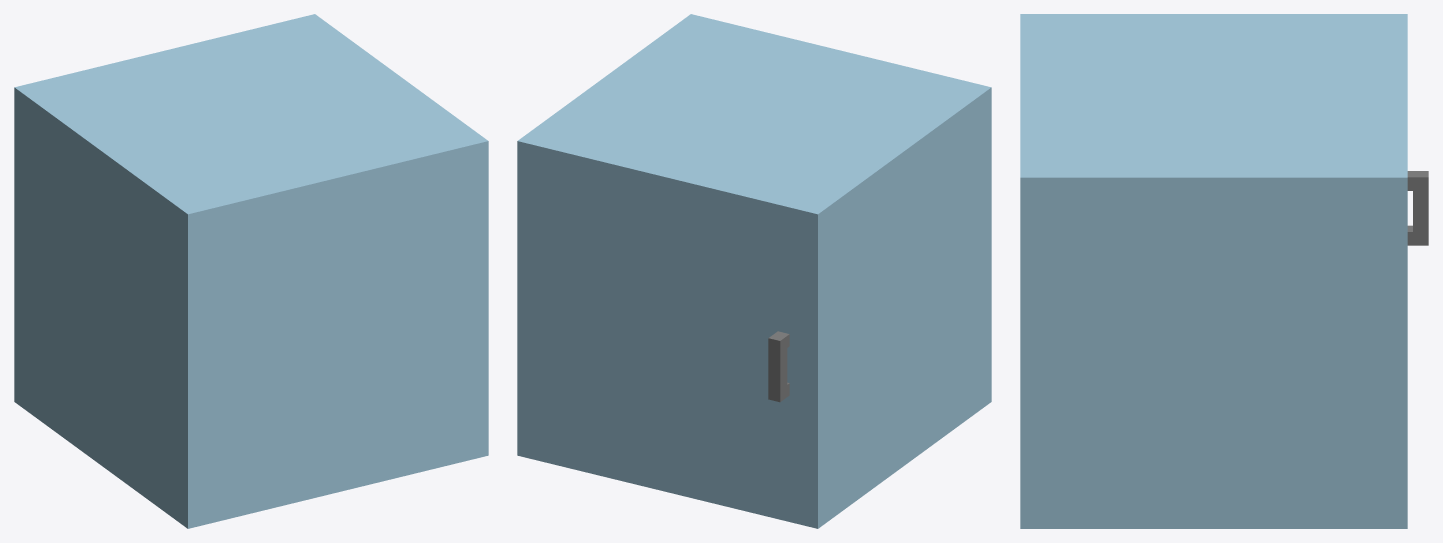
File: Cabinet.fbx
3 renders of one model, left to right at view 1: azimuth 30°, elevation 25°; view 2: azimuth 150°, elevation 25°; view 3: azimuth 270°, elevation 25°, orthographic. The views are drawn at different scales.
Parts seen in each view (by area): view 1: Cube; view 2: Cube, Cube.001; view 3: Cube, Cube.001.
Part boxes in pixels (x1,y1,x2,y2): Cube: (14,14,488,528); Cube: (517,14,991,528); Cube.001: (768,331,789,402); Cube: (1020,14,1407,528); Cube.001: (1407,171,1428,245).
Size of the model in its own units: 200 by 200 by 211.
